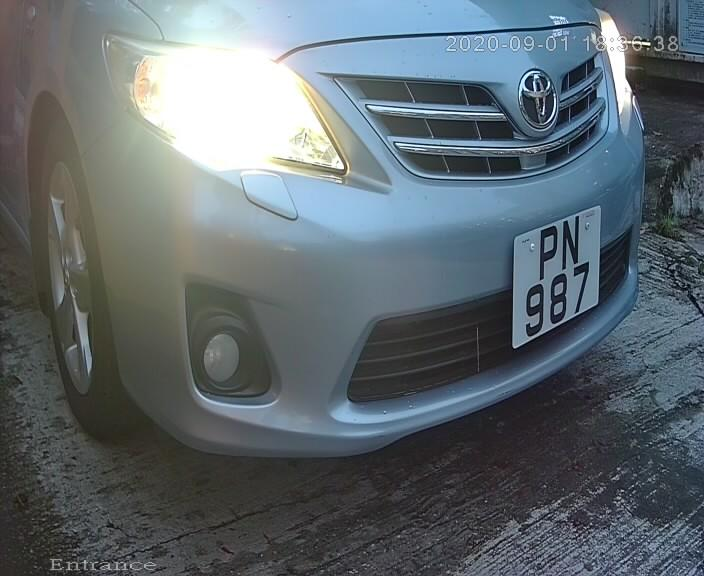License Plate: (506, 193, 604, 358)
